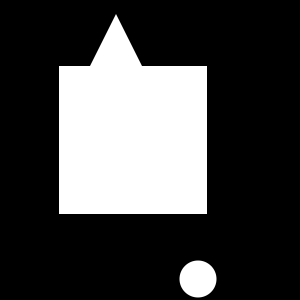circle: (59, 66, 207, 214)
rectangle: (180, 260, 216, 298)
triangle: (79, 14, 153, 88)
